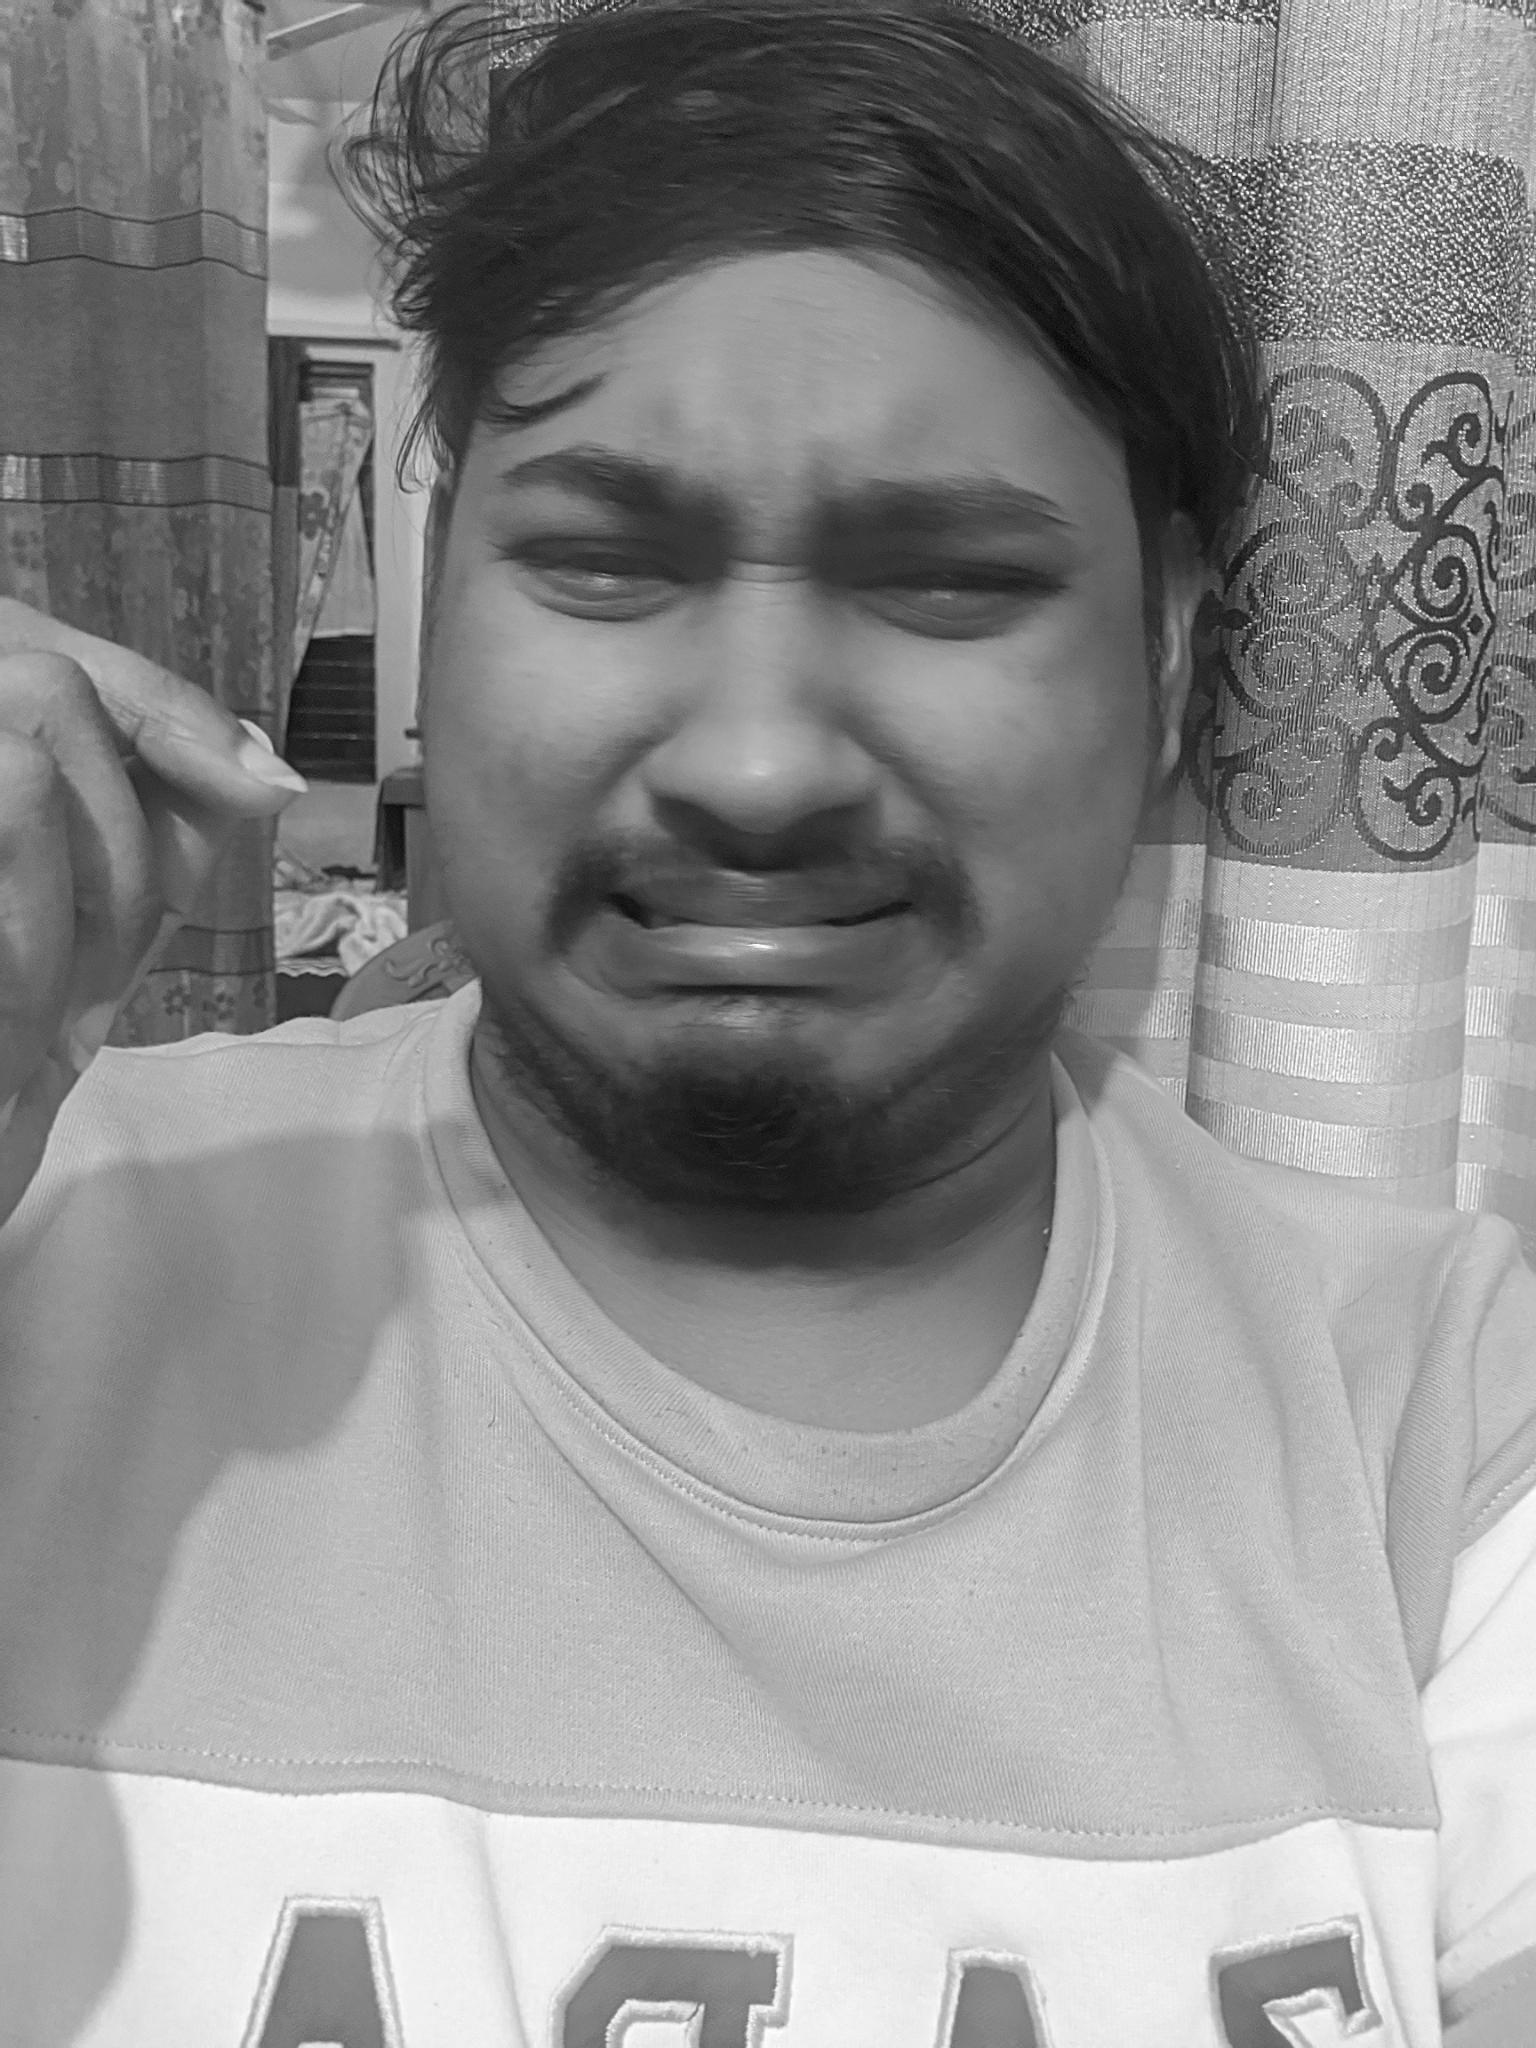Disgust: (410, 356, 1155, 1176)
